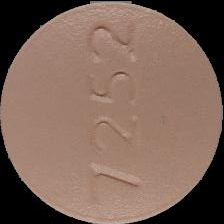10544-231: (0, 0, 224, 224)
